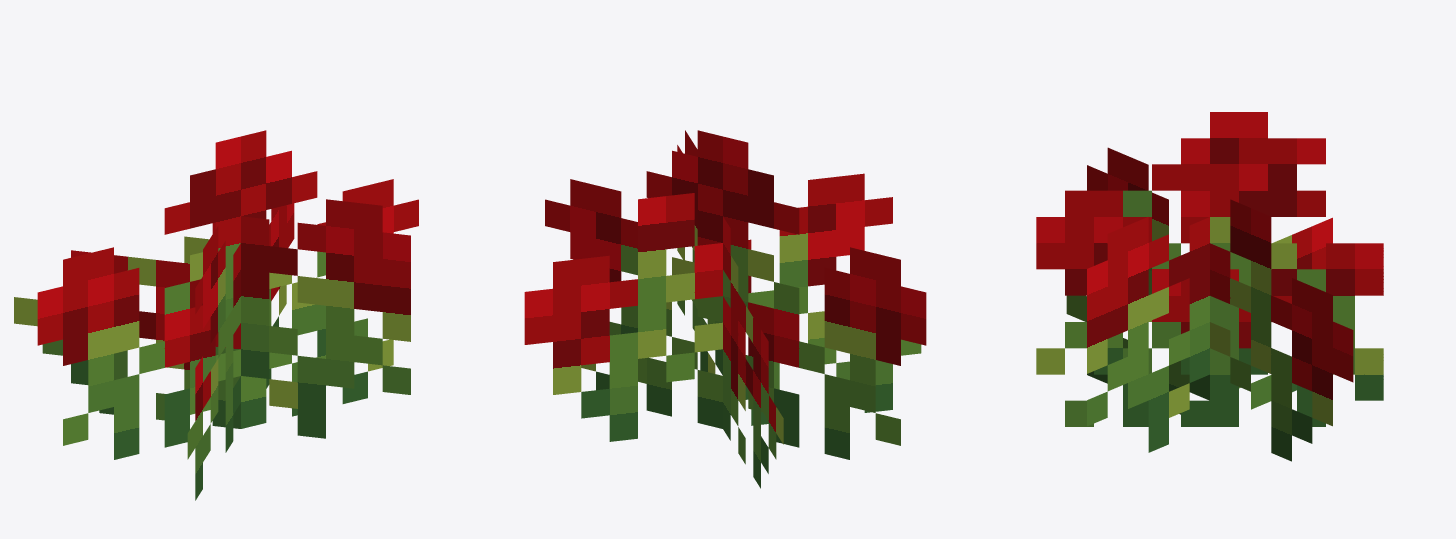
The model's file is RoseGrown.fbx.
3 renders of one model, left to right at view 1: azimuth 30°, elevation 25°; view 2: azimuth 150°, elevation 25°; view 3: azimuth 270°, elevation 25°, orthographic.
Visible parts, largest first — view 1: plane; view 2: plane; view 3: plane.
Boxes of the visible parts, x1=… form: plane: x1=14, y1=130, x2=418, y2=500; plane: x1=524, y1=130, x2=926, y2=488; plane: x1=1036, y1=112, x2=1383, y2=461.
Bounding box in the file's own units: 100 × 75 × 100.
Materials: 1 (1 with a texture image).
